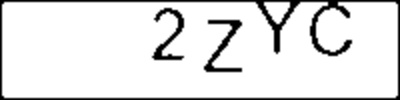2: (152, 5, 189, 66)
C: (307, 1, 357, 61)
Y: (251, 1, 304, 56)
Z: (202, 16, 248, 76)
